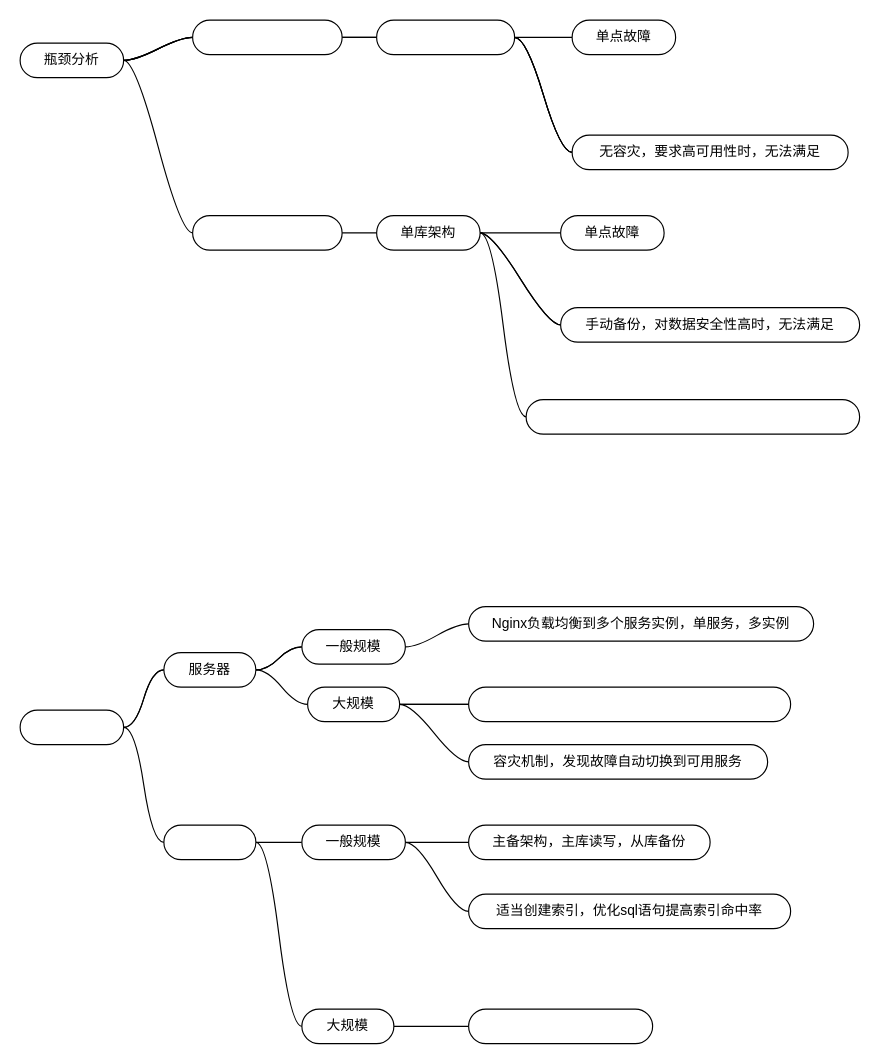
This 880x1064 diagram has some shape labels left out. Here are the shapes that lost their labels. From the top down, the centre of each, then its label:
point (266, 37): 服务器流量承载
point (445, 37): 单服务机架构
point (266, 232): 数据库流量承载
point (692, 416): mysql吃IO性能，放在物理机比docker性能更好
point (629, 704): 不同服务单独部署（微服务）多服务，多实例
point (71, 727): 优化方案
point (209, 842): 数据库
point (560, 1026): 双主机构，分库，分表
